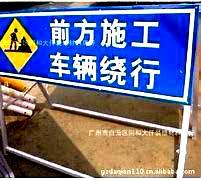sign: (1, 14, 194, 97)
